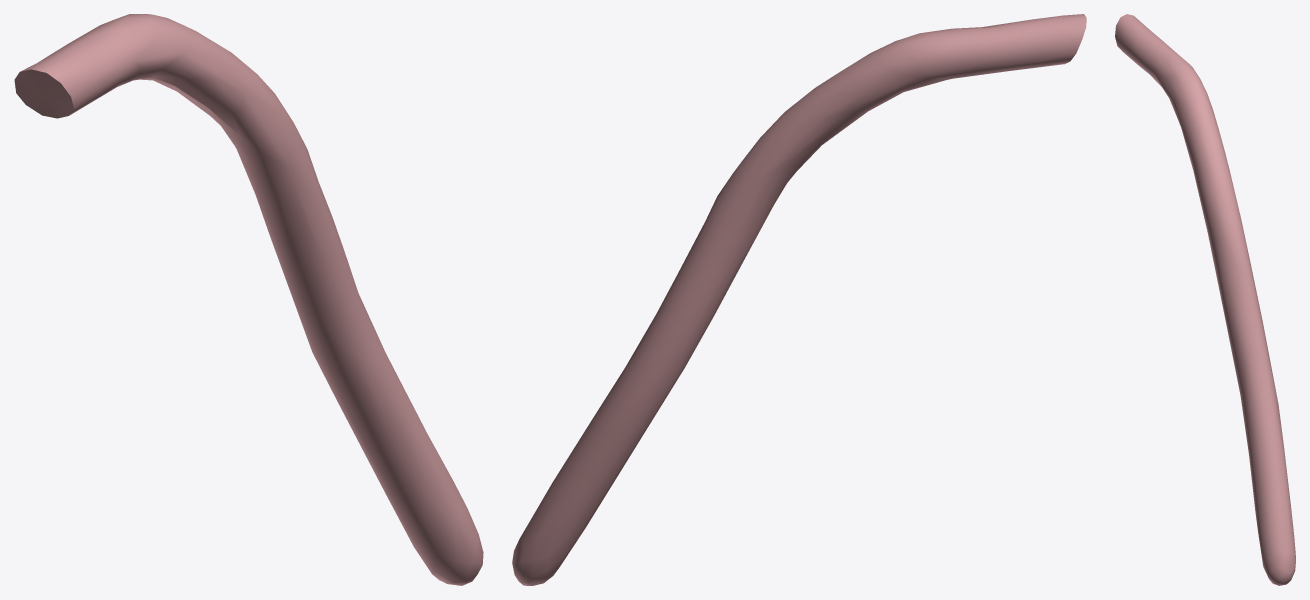
File: fma78487-r_mm3091m.glb
3 views of the same model, side by side, from view 1: azimuth 30°, elevation 25°; view 2: azimuth 150°, elevation 25°; view 3: azimuth 270°, elevation 25° (orthographic). The views are drawn at different scales.
Parts seen in each view (by area): view 1: FMA78487-R_MM3091M; view 2: FMA78487-R_MM3091M; view 3: FMA78487-R_MM3091M.
Part boxes in pixels (left/top/right/bottom): FMA78487-R_MM3091M: left=14, top=14, right=483, bottom=585; FMA78487-R_MM3091M: left=512, top=14, right=1086, bottom=585; FMA78487-R_MM3091M: left=1115, top=14, right=1295, bottom=585.
Size of the model in its own units: 0.0119 by 0.0144 by 0.00566.
